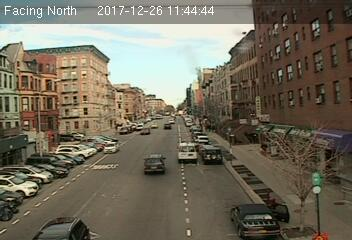car: (230, 202, 280, 236), (144, 153, 166, 175), (202, 146, 223, 164), (102, 141, 120, 155)
truck: (177, 142, 198, 162)
